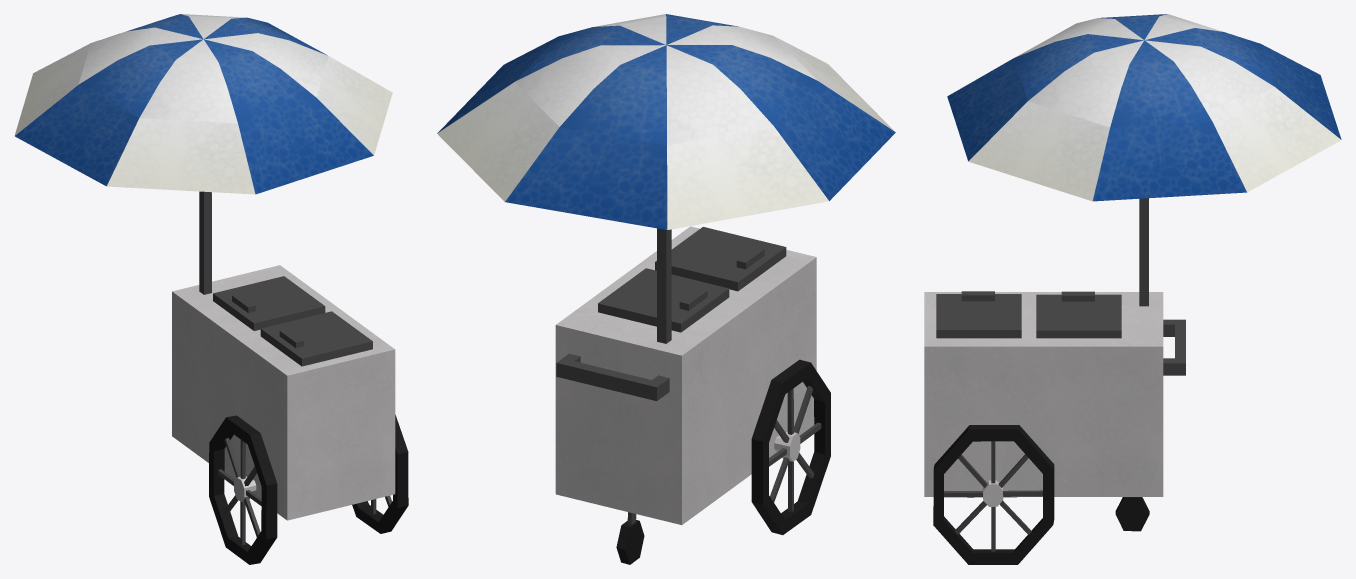
File: carrinho_hotdog.fbx
The picture shows the model from 3 angles, left to right: view 1: azimuth 30°, elevation 25°; view 2: azimuth 150°, elevation 25°; view 3: azimuth 270°, elevation 25°; orthographic projection. The views are drawn at different scales.
Visible parts, largest first — view 1: Cube; view 2: Cube; view 3: Cube.
Boxes of the visible parts, x1=… form: Cube: x1=14, y1=14, x2=408, y2=564; Cube: x1=437, y1=14, x2=895, y2=564; Cube: x1=924, y1=14, x2=1341, y2=564.
Bounding box in the file's own units: 113 × 150 × 120.
